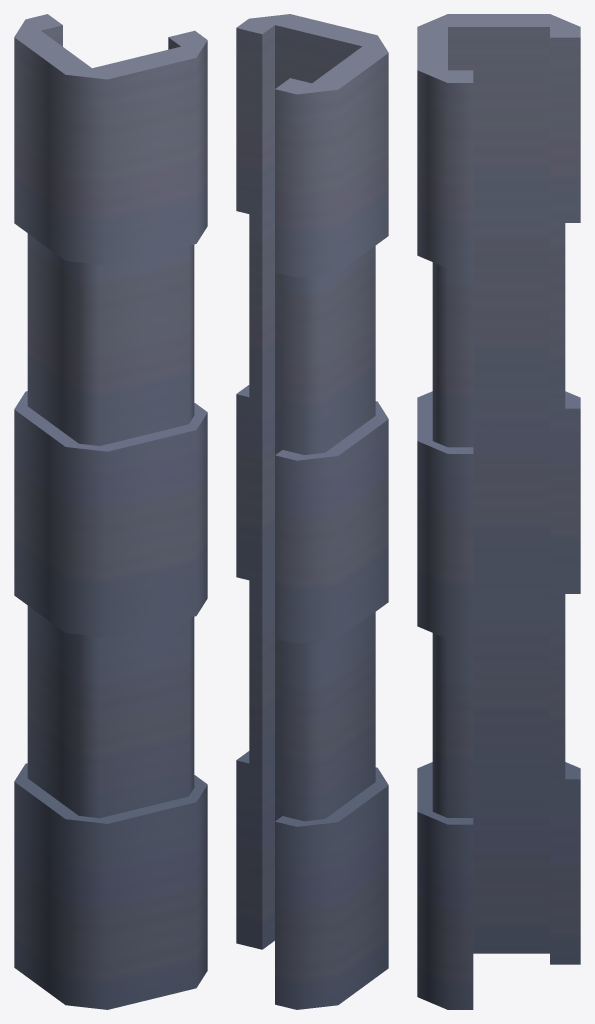
File: wall-corner-detail.glb
3 renders of one model, left to right at view 1: azimuth 30°, elevation 25°; view 2: azimuth 150°, elevation 25°; view 3: azimuth 270°, elevation 25°, orthographic.
Visible parts, largest first — view 1: wall-corner-detail; view 2: wall-corner-detail; view 3: wall-corner-detail.
Boxes of the visible parts, x1,y1,x2,y2 form: wall-corner-detail: [14, 14, 207, 1009]; wall-corner-detail: [236, 14, 388, 1009]; wall-corner-detail: [417, 14, 580, 1009].
Bounding box in the file's own units: 0.16 × 1 × 0.16.
1 material, 1 textured.
